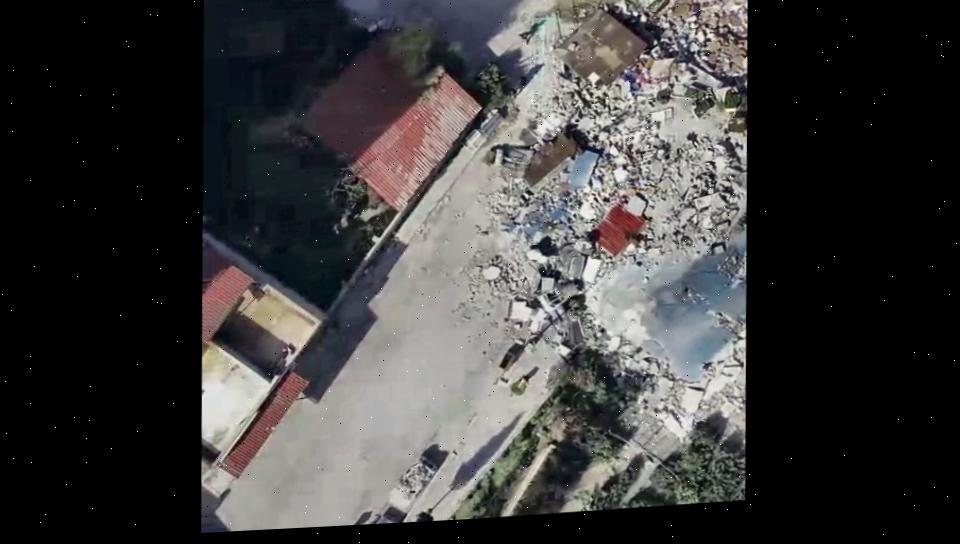kapali: (345, 0, 747, 438)
